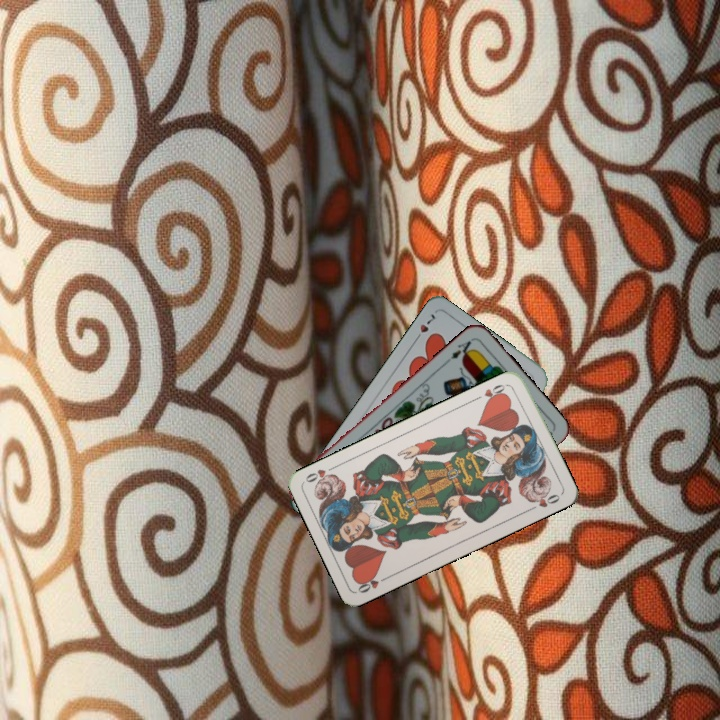EA: (447, 335, 476, 362)
H7: (410, 309, 438, 345)
HO: (472, 380, 510, 406), (354, 571, 392, 596)
